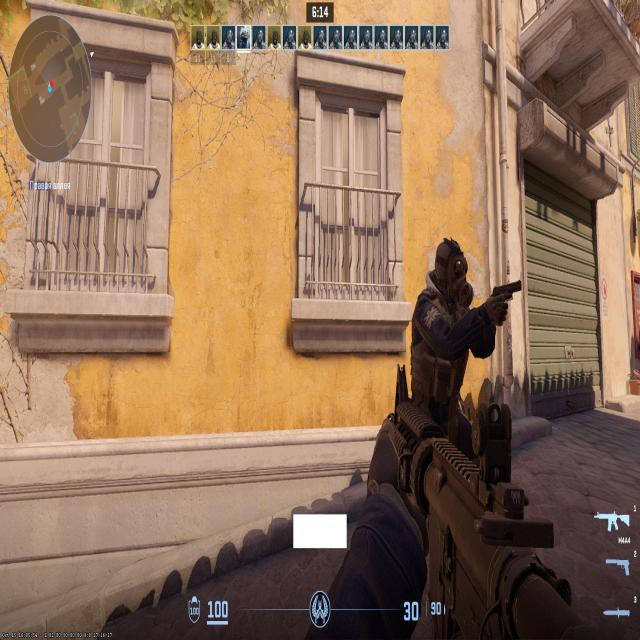CT: (424, 251, 466, 454)
CT_heat: (438, 256, 459, 300)
